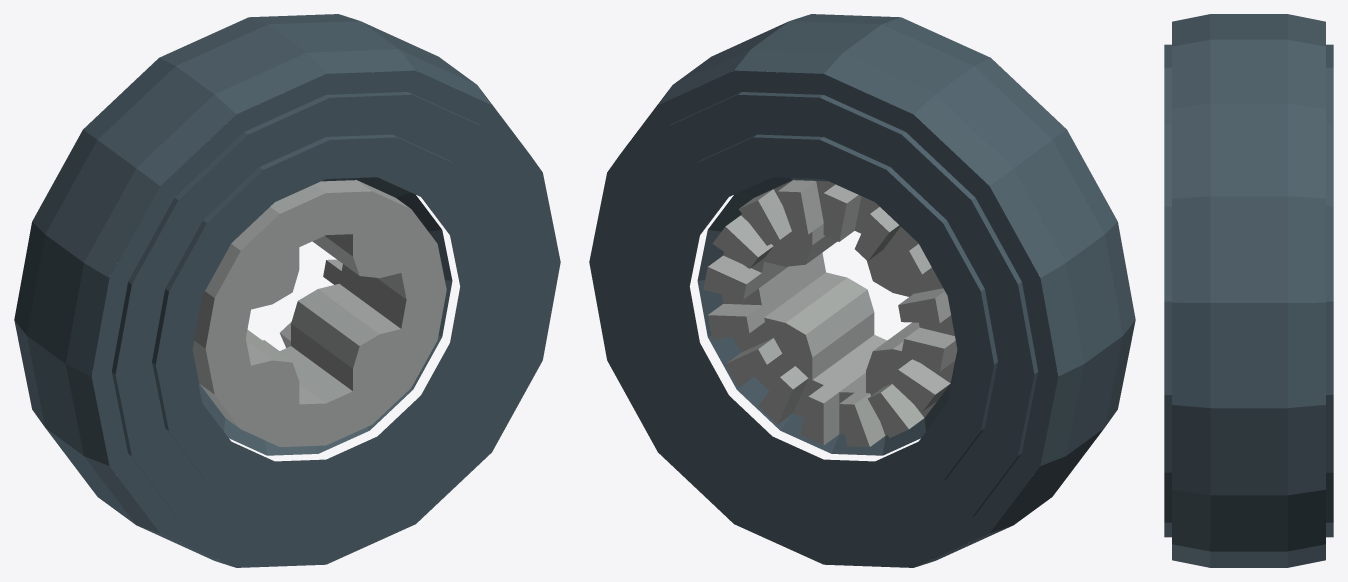
3 renders of one model, left to right at view 1: azimuth 30°, elevation 25°; view 2: azimuth 150°, elevation 25°; view 3: azimuth 270°, elevation 25°, orthographic.
Parts seen in each view (by area): view 1: world; view 2: world; view 3: world.
Part boxes in pixels (box(x1,y1,x2,y2)): world: box(14, 14, 560, 567); world: box(589, 14, 1135, 567); world: box(1164, 14, 1333, 567).
Size of the model in its own units: 0.0144 by 0.0144 by 0.0044.
